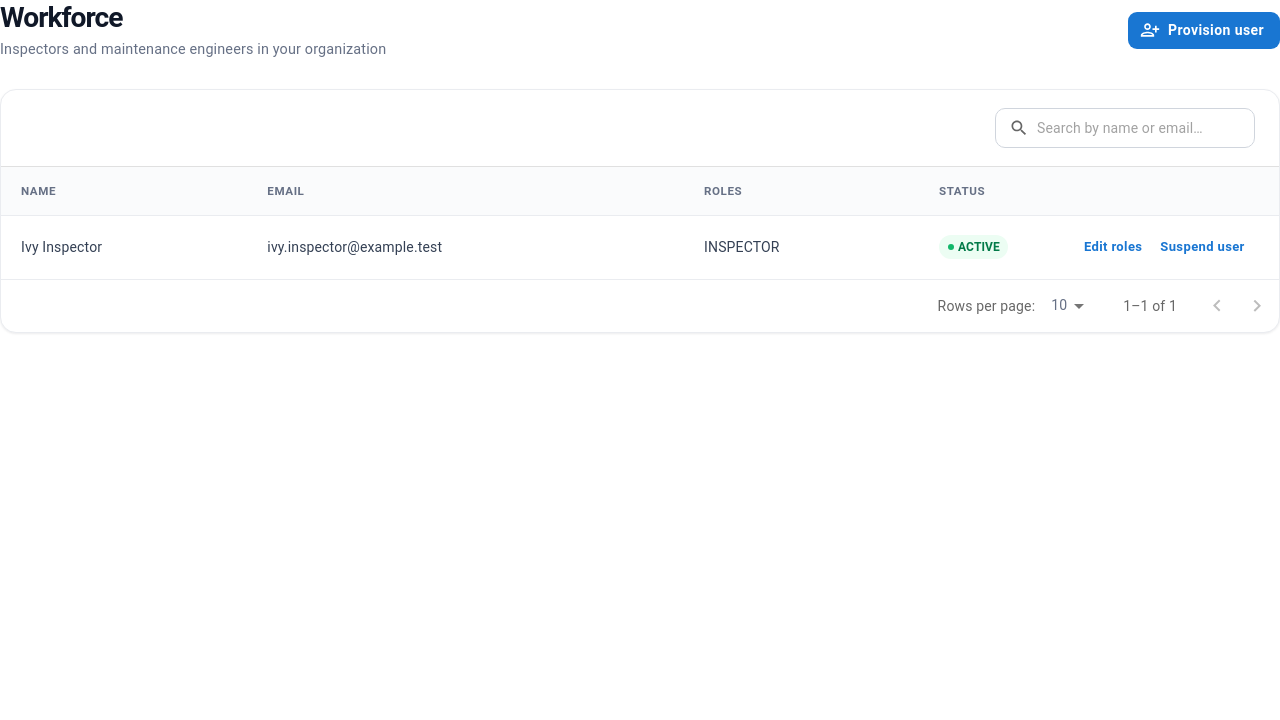
Test: WorkforcePage users tab › shows a role-update conflict as a warning inside the role editor
The image size is (1280, 720).
Click the button "Edit roles".
click(1113, 247)  # box top-left (1079, 232), bottom-right (1147, 263)
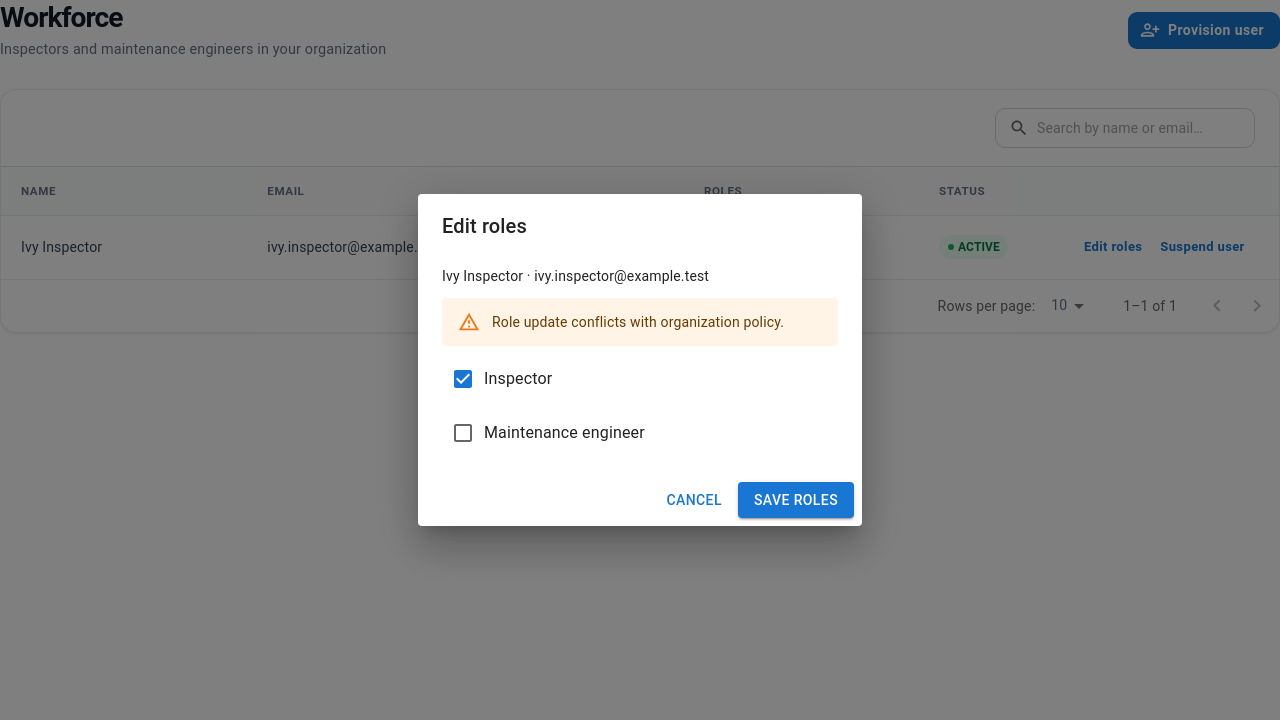
Expected: the message with test id "roles-conflict" reads "Role update conflicts with organization policy.", top-left (492, 314), bottom-right (784, 330)
